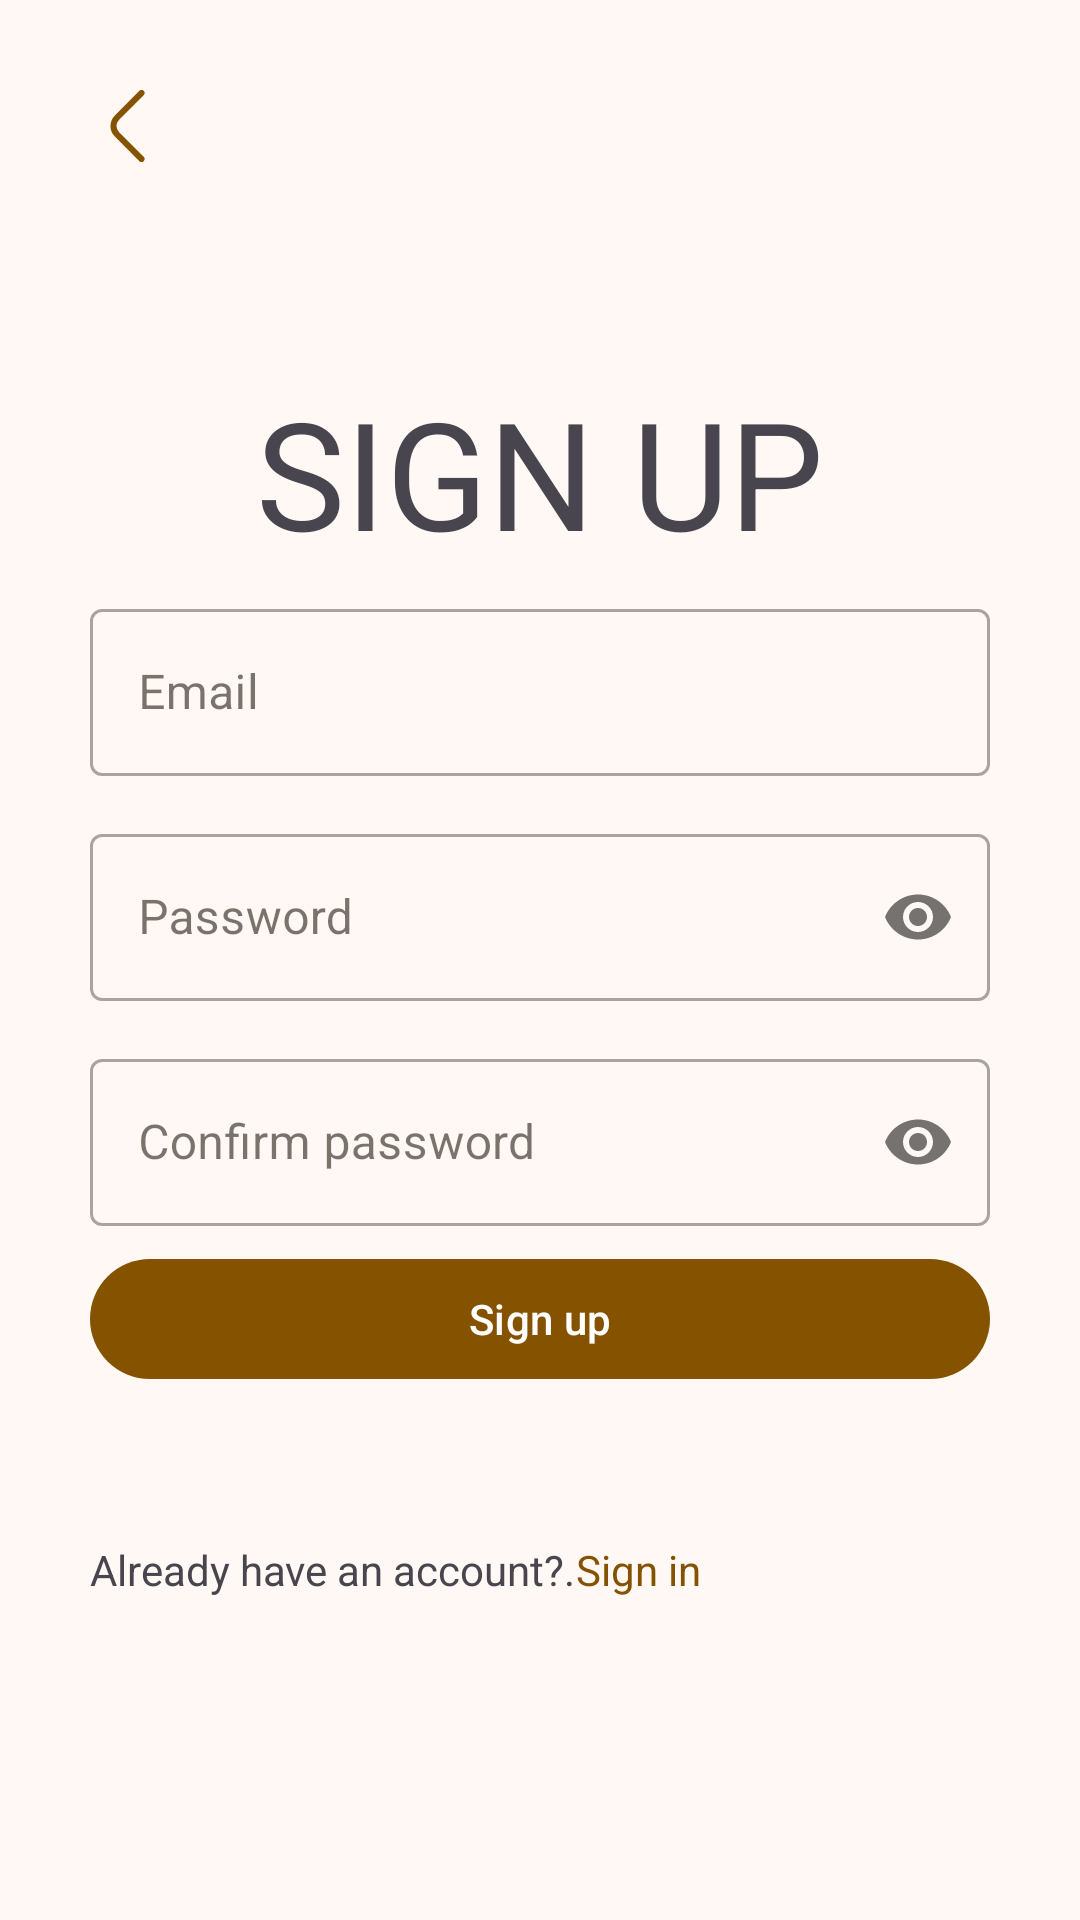

Icon click points for this 1080 x 1920 phone screenshot, format (x,y):
back: (127,126)
